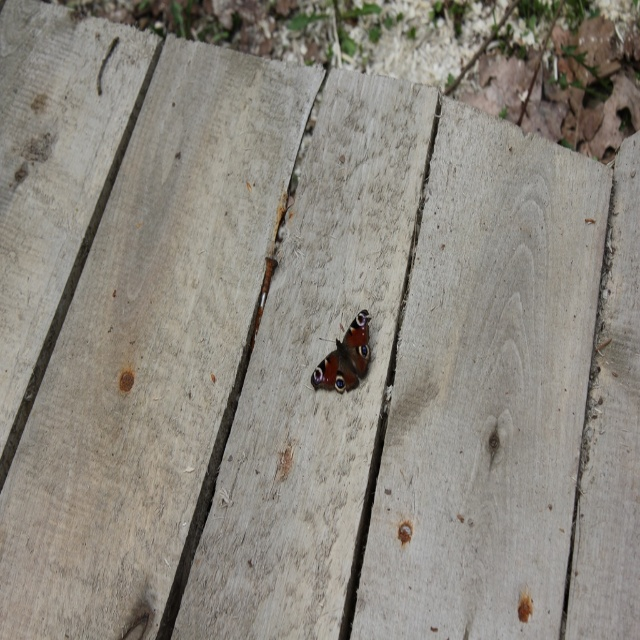Butterfly: (315, 306, 370, 409)
